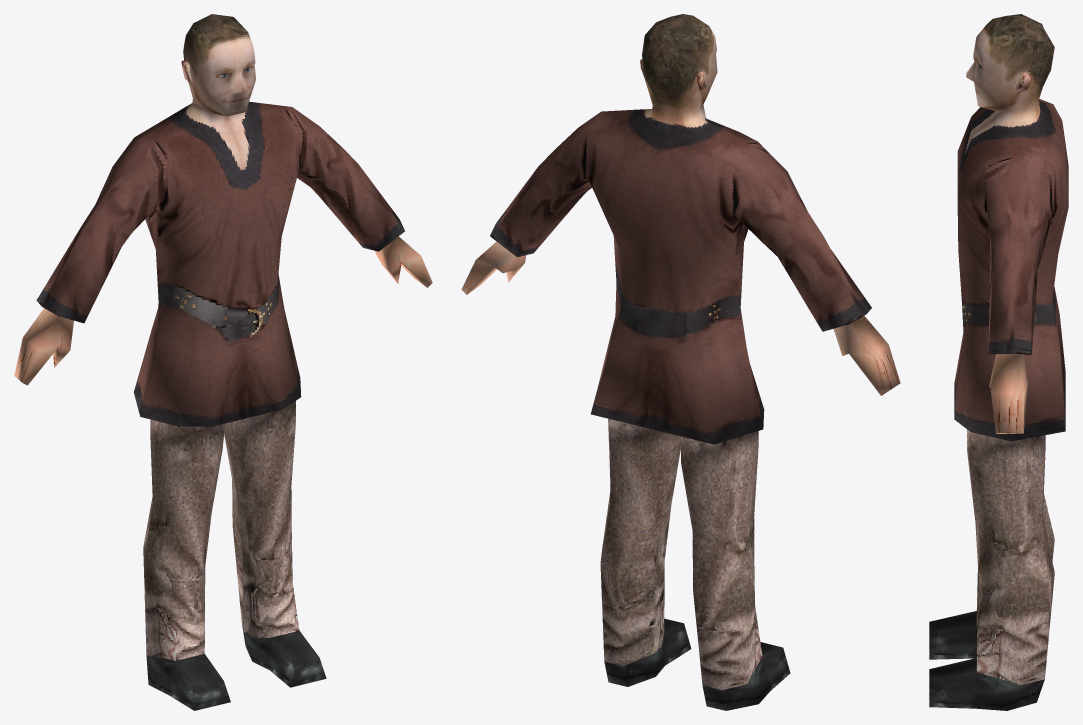
File: male_npc_1.fbx
3 views of the same model, side by side, from view 1: azimuth 30°, elevation 25°; view 2: azimuth 150°, elevation 25°; view 3: azimuth 270°, elevation 25° (orthographic). The views are drawn at different scales.
Visible parts, largest first — view 1: Male NPC 1; view 2: Male NPC 1; view 3: Male NPC 1.
Boxes of the visible parts, bbox=[...] form: Male NPC 1: bbox=[14, 14, 432, 710]; Male NPC 1: bbox=[461, 14, 900, 710]; Male NPC 1: bbox=[929, 14, 1068, 710].
Size of the model in its own units: 116 by 174 by 33.48.
